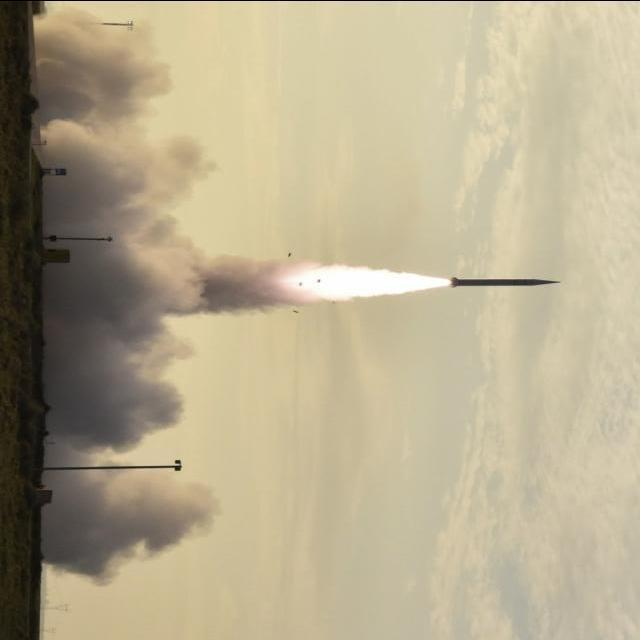missile: (447, 273, 558, 291)
